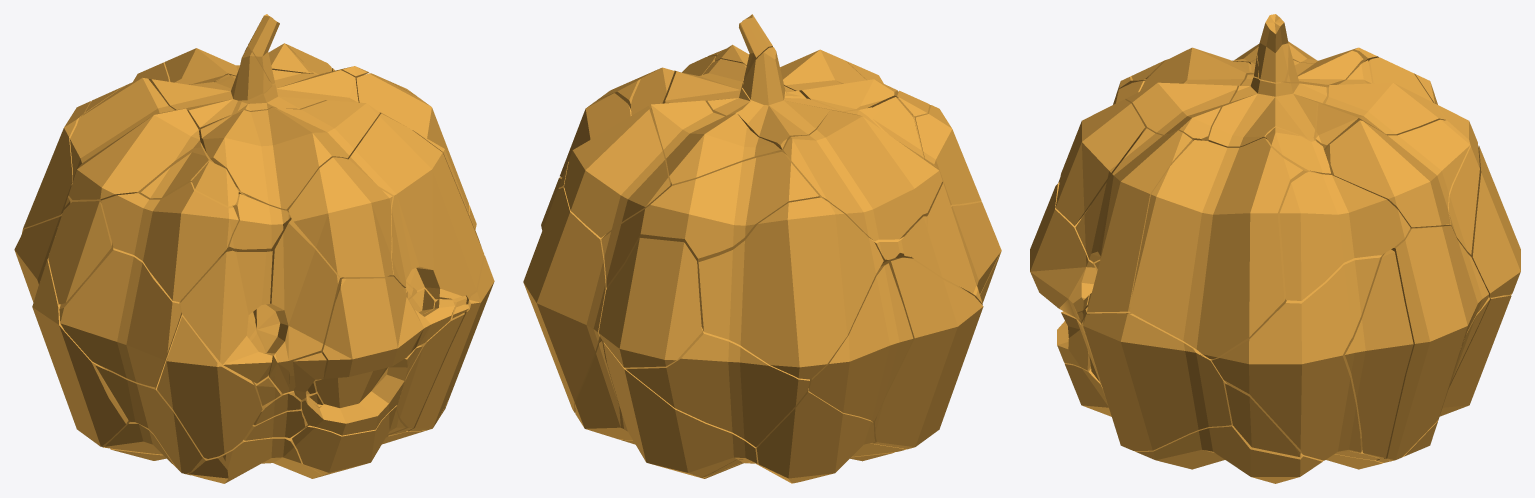
The model's file is pumpkin-carved-lit-b broken.fbx.
The picture shows the model from 3 angles, left to right: view 1: azimuth 30°, elevation 25°; view 2: azimuth 150°, elevation 25°; view 3: azimuth 270°, elevation 25°; orthographic projection.
Parts seen in each view (by area): view 1: pumpkin-carved-lit-b_cell, pumpkin-carved-lit-b_cell.062, pumpkin-carved-lit-b_cell.029, pumpkin-carved-lit-b_cell.082, pumpkin-carved-lit-b_cell.085, pumpkin-carved-lit-b_cell.075, pumpkin-carved-lit-b_cell.036, pumpkin-carved-lit-b_cell.054, pumpkin-carved-lit-b_cell.007, pumpkin-carved-lit-b_cell.031, pumpkin-carved-lit-b_cell.081, pumpkin-carved-lit-b_cell.047 (+22 smaller); view 2: pumpkin-carved-lit-b_cell.023, pumpkin-carved-lit-b_cell.082, pumpkin-carved-lit-b_cell.037, pumpkin-carved-lit-b_cell.081, pumpkin-carved-lit-b_cell.044, pumpkin-carved-lit-b_cell.028, pumpkin-carved-lit-b_cell.004, pumpkin-carved-lit-b_cell.005, pumpkin-carved-lit-b_cell.058, pumpkin-carved-lit-b_cell.048, pumpkin-carved-lit-b_cell.066, pumpkin-carved-lit-b_cell.051 (+13 smaller); view 3: pumpkin-carved-lit-b_cell.045, pumpkin-carved-lit-b_cell.077, pumpkin-carved-lit-b_cell.072, pumpkin-carved-lit-b_cell.044, pumpkin-carved-lit-b_cell.076, pumpkin-carved-lit-b_cell.005, pumpkin-carved-lit-b_cell, pumpkin-carved-lit-b_cell.021, pumpkin-carved-lit-b_cell.062, pumpkin-carved-lit-b_cell.032, pumpkin-carved-lit-b_cell.075, pumpkin-carved-lit-b_cell.051 (+13 smaller).
Part boxes in pixels (<box>): pumpkin-carved-lit-b_cell: <box>348,113,484,299</box>; pumpkin-carved-lit-b_cell.062: <box>199,100,380,212</box>; pumpkin-carved-lit-b_cell.029: <box>59,243,181,389</box>; pumpkin-carved-lit-b_cell.082: <box>68,77,201,203</box>; pumpkin-carved-lit-b_cell.085: <box>101,182,238,301</box>; pumpkin-carved-lit-b_cell.075: <box>288,157,393,277</box>; pumpkin-carved-lit-b_cell.036: <box>322,276,454,378</box>; pumpkin-carved-lit-b_cell.054: <box>253,219,343,393</box>; pumpkin-carved-lit-b_cell.007: <box>156,315,262,458</box>; pumpkin-carved-lit-b_cell.031: <box>180,250,272,383</box>; pumpkin-carved-lit-b_cell.081: <box>32,245,128,446</box>; pumpkin-carved-lit-b_cell.047: <box>302,345,422,435</box>; pumpkin-carved-lit-b_cell.023: <box>697,197,883,379</box>; pumpkin-carved-lit-b_cell.082: <box>783,107,942,241</box>; pumpkin-carved-lit-b_cell.037: <box>601,151,824,288</box>; pumpkin-carved-lit-b_cell.081: <box>871,257,983,449</box>; pumpkin-carved-lit-b_cell.044: <box>523,187,606,412</box>; pumpkin-carved-lit-b_cell.028: <box>625,327,809,446</box>; pumpkin-carved-lit-b_cell.004: <box>598,238,701,367</box>; pumpkin-carved-lit-b_cell.005: <box>564,106,670,237</box>; pumpkin-carved-lit-b_cell.058: <box>808,263,913,421</box>; pumpkin-carved-lit-b_cell.048: <box>603,342,759,477</box>; pumpkin-carved-lit-b_cell.066: <box>756,388,875,482</box>; pumpkin-carved-lit-b_cell.051: <box>651,100,780,184</box>; pumpkin-carved-lit-b_cell.045: <box>1130,137,1320,358</box>; pumpkin-carved-lit-b_cell.077: <box>1211,253,1384,460</box>; pumpkin-carved-lit-b_cell.072: <box>1082,313,1232,450</box>; pumpkin-carved-lit-b_cell.044: <box>1384,225,1488,460</box>; pumpkin-carved-lit-b_cell.076: <box>1279,172,1410,300</box>; pumpkin-carved-lit-b_cell.005: <box>1325,119,1470,227</box>; pumpkin-carved-lit-b_cell: <box>1075,128,1192,312</box>; pumpkin-carved-lit-b_cell.021: <box>1345,249,1413,458</box>; pumpkin-carved-lit-b_cell.062: <box>1125,47,1253,141</box>; pumpkin-carved-lit-b_cell.032: <box>1208,74,1329,147</box>; pumpkin-carved-lit-b_cell.075: <box>1055,99,1145,225</box>; pumpkin-carved-lit-b_cell.051: <box>1315,60,1445,150</box>.
Size of the model in its own units: 61.49 by 58.86 by 61.49.
